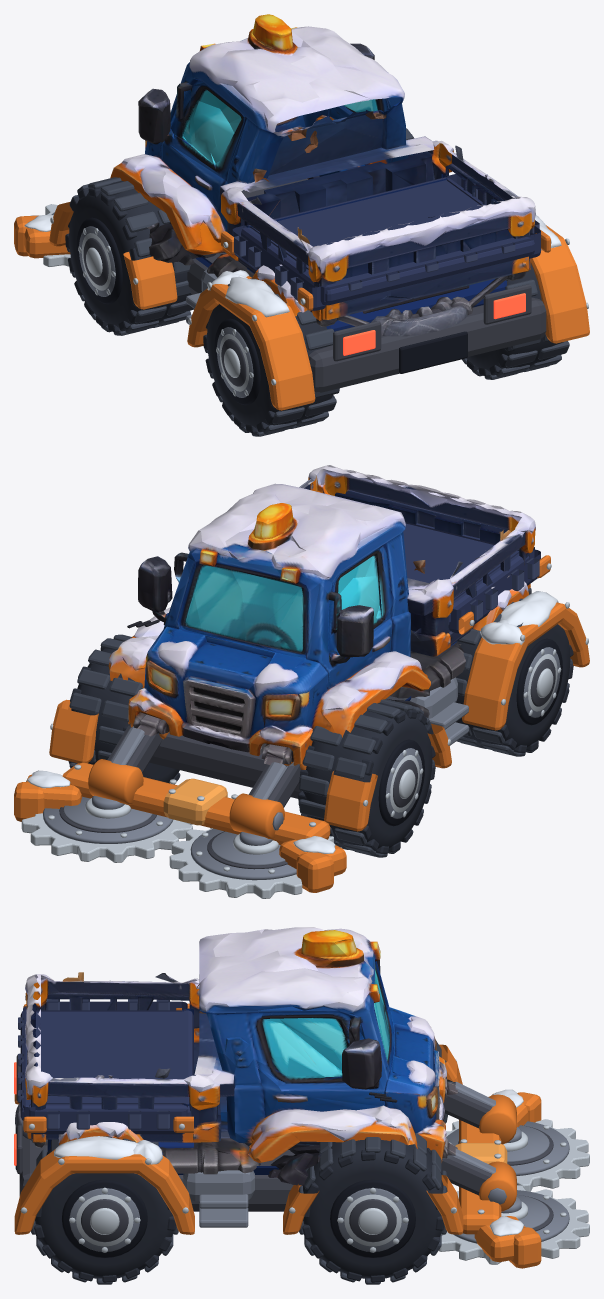
File: snow_truck.glb
3 views of the same model, one above another, from view 1: azimuth 30°, elevation 25°; view 2: azimuth 150°, elevation 25°; view 3: azimuth 270°, elevation 25° (orthographic). The views are drawn at different scales.
Visible parts, largest first — view 1: MeshyTruckCabAndBed, RetainedTruckChassisAndMount, WheelFrontLeftGeometry, WheelRearLeftGeometry, WheelRearRightGeometry; view 2: MeshyTruckCabAndBed, RetainedTruckChassisAndMount, WheelFrontLeftGeometry, WheelRearLeftGeometry, BladeRightGeometry, BladeLeftGeometry, WheelFrontRightGeometry; view 3: MeshyTruckCabAndBed, RetainedTruckChassisAndMount, WheelFrontRightGeometry, WheelRearRightGeometry, BladeLeftGeometry, BladeRightGeometry.
Part boxes in pixels (box(x1,y1,x2,y2)): MeshyTruckCabAndBed: box(110, 14, 535, 336); RetainedTruckChassisAndMount: box(14, 174, 589, 410); WheelFrontLeftGeometry: box(65, 177, 194, 335); WheelRearLeftGeometry: box(203, 278, 339, 436); WheelRearRightGeometry: box(462, 263, 569, 379); MeshyTruckCabAndBed: box(108, 465, 535, 765); RetainedTruckChassisAndMount: box(14, 522, 589, 892); WheelFrontLeftGeometry: box(298, 699, 435, 857); WheelRearLeftGeometry: box(456, 598, 573, 756); BladeRightGeometry: box(21, 795, 192, 862); BladeLeftGeometry: box(169, 828, 341, 898); WheelFrontRightGeometry: box(68, 634, 180, 784); MeshyTruckCabAndBed: box(15, 927, 457, 1185); RetainedTruckChassisAndMount: box(14, 999, 541, 1268); WheelFrontRightGeometry: box(298, 1133, 447, 1284); WheelRearRightGeometry: box(31, 1136, 178, 1284); BladeLeftGeometry: box(445, 1119, 589, 1191); BladeRightGeometry: box(438, 1185, 589, 1264).
Size of the model in its own units: 2.36 by 2.07 by 3.82.
15 materials, 1 textured.
